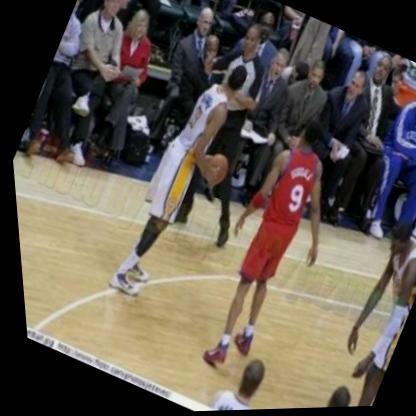basketball: (195, 154, 230, 192)
